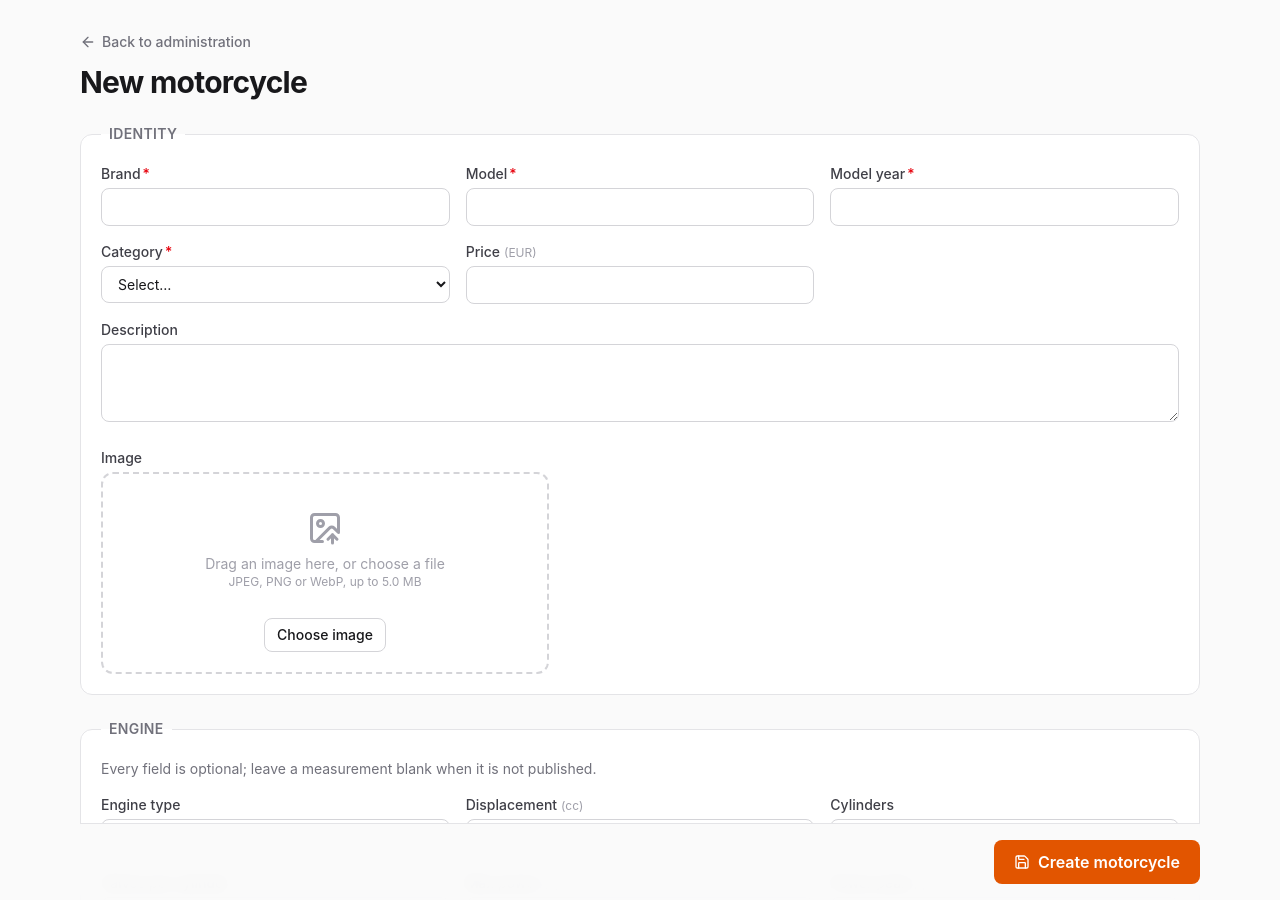
Scenario: AdminMotorcycleFormPage create › keeps the form and lists the field violations the API returned
Type "Yamaha" into the field labelled "Brand".
click(275, 207); type("Yamaha")  # box [101,188,450,226]
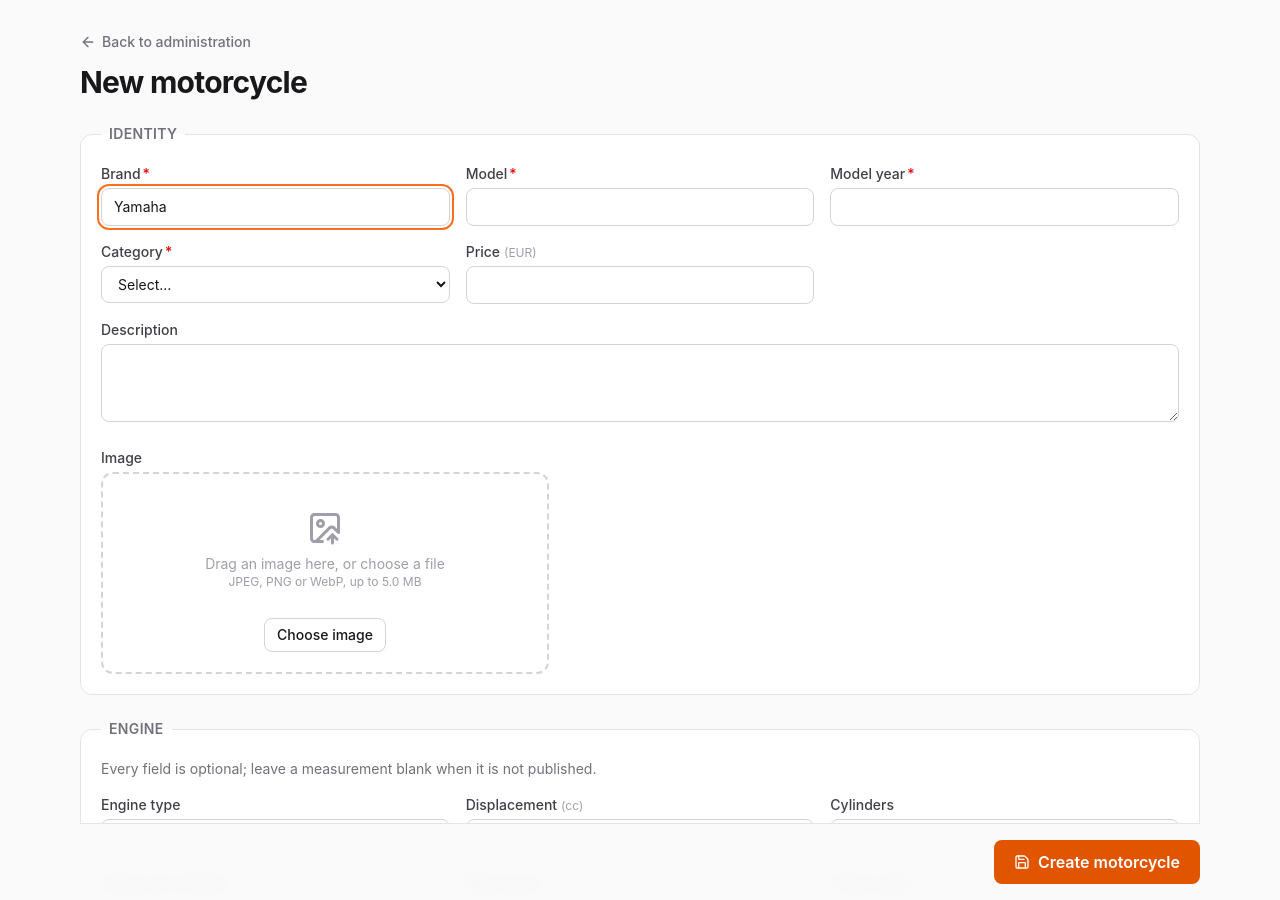
Type "MT-07" into the field labelled "Model".
click(640, 207); type("MT-07")  # box [466,188,814,226]
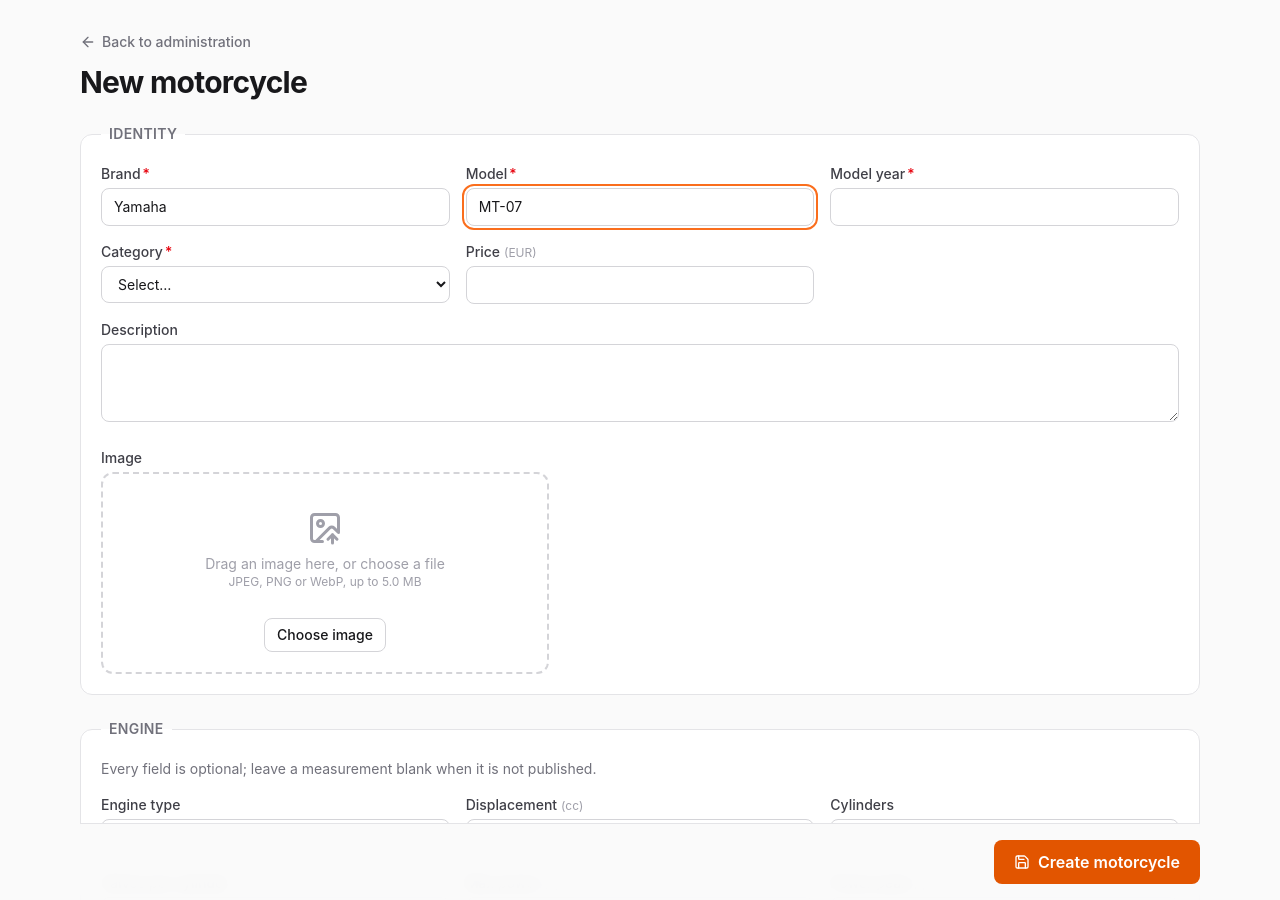
Type "2024" into the number field labelled "Model year".
click(1005, 207); type("2024")  # box [830,188,1179,226]
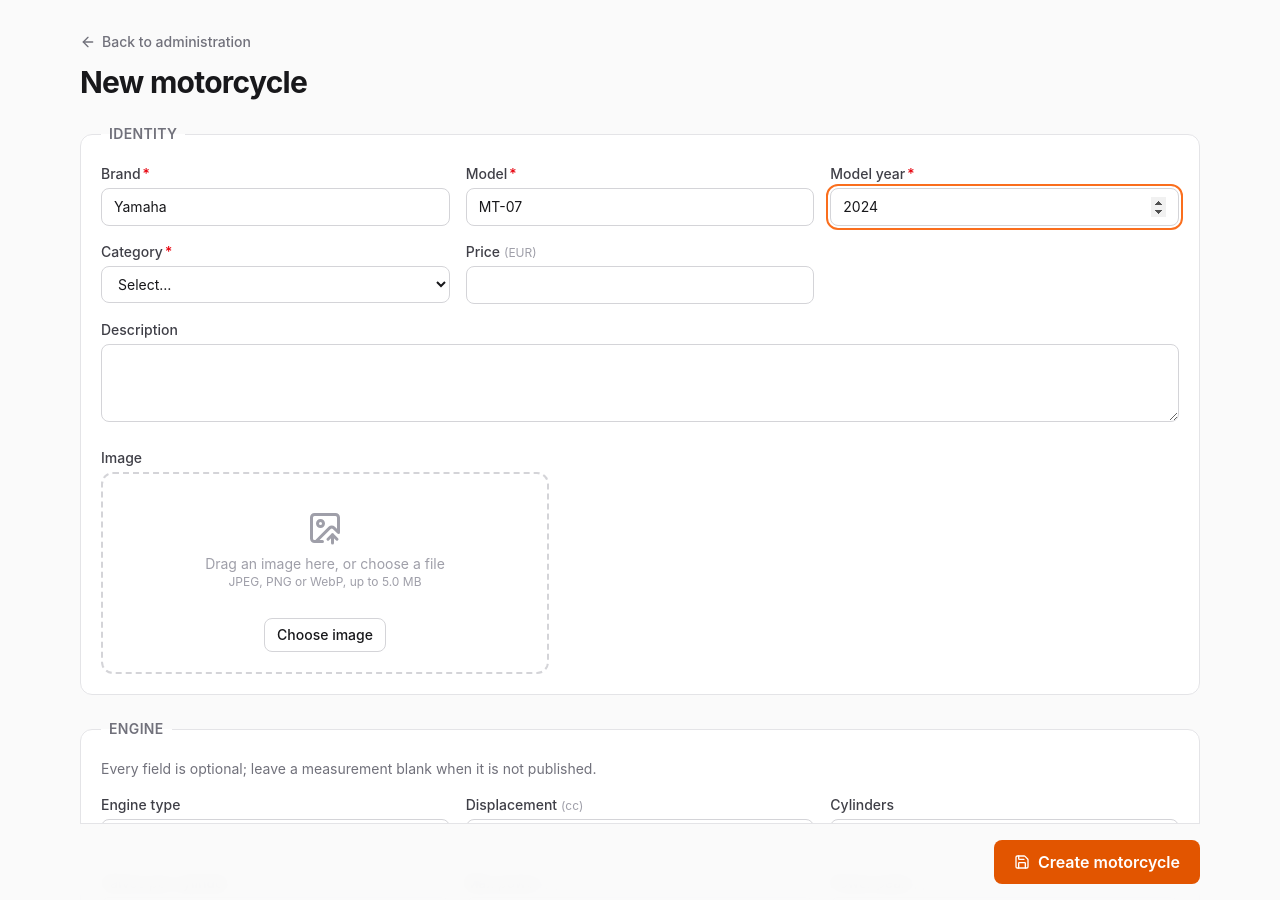
Select "Naked" in the dropdown labelled "Category" at {"x": 275, "y": 284}, box [101,266,450,303]
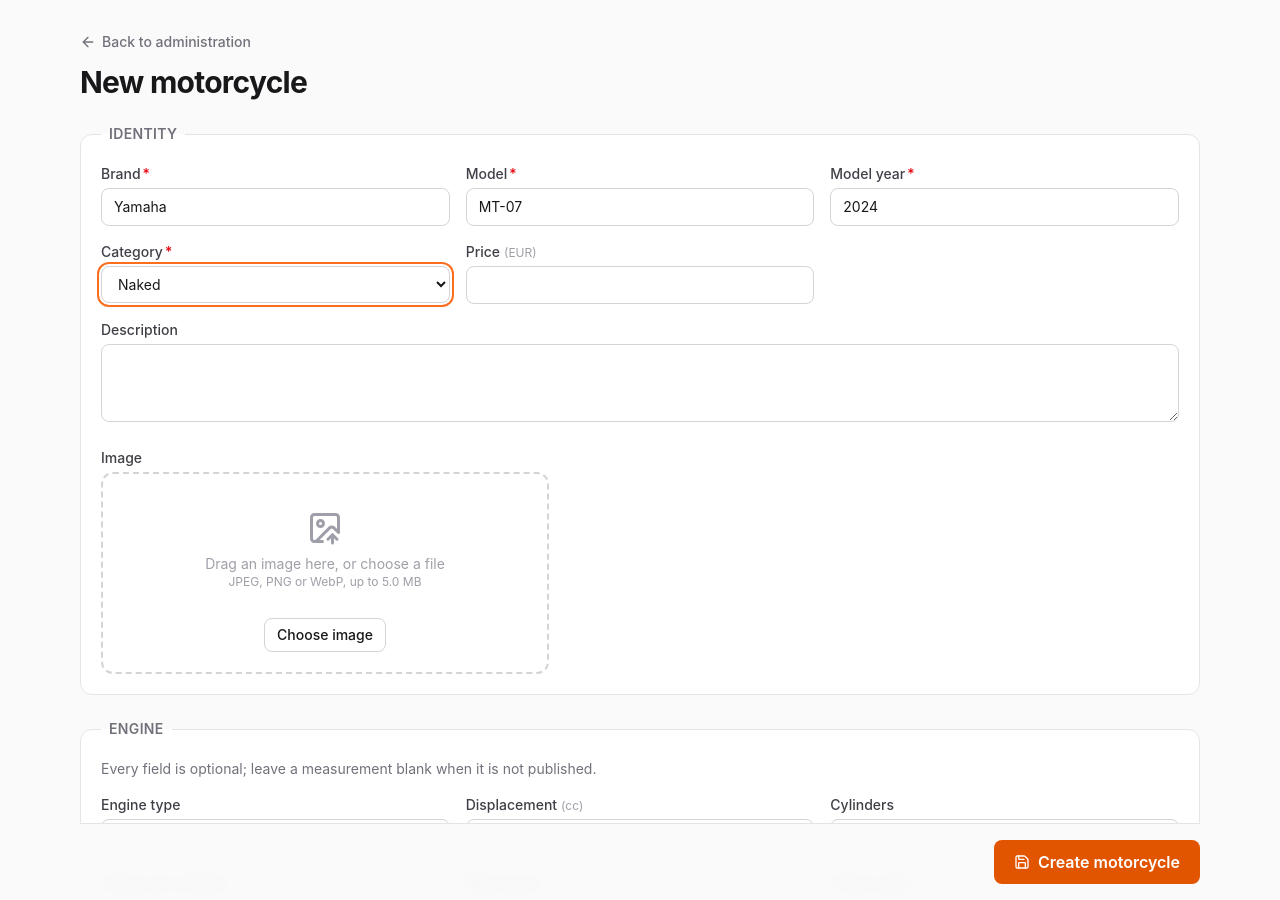
Click the button "Create motorcycle".
click(1097, 862)  # box [994,840,1200,884]
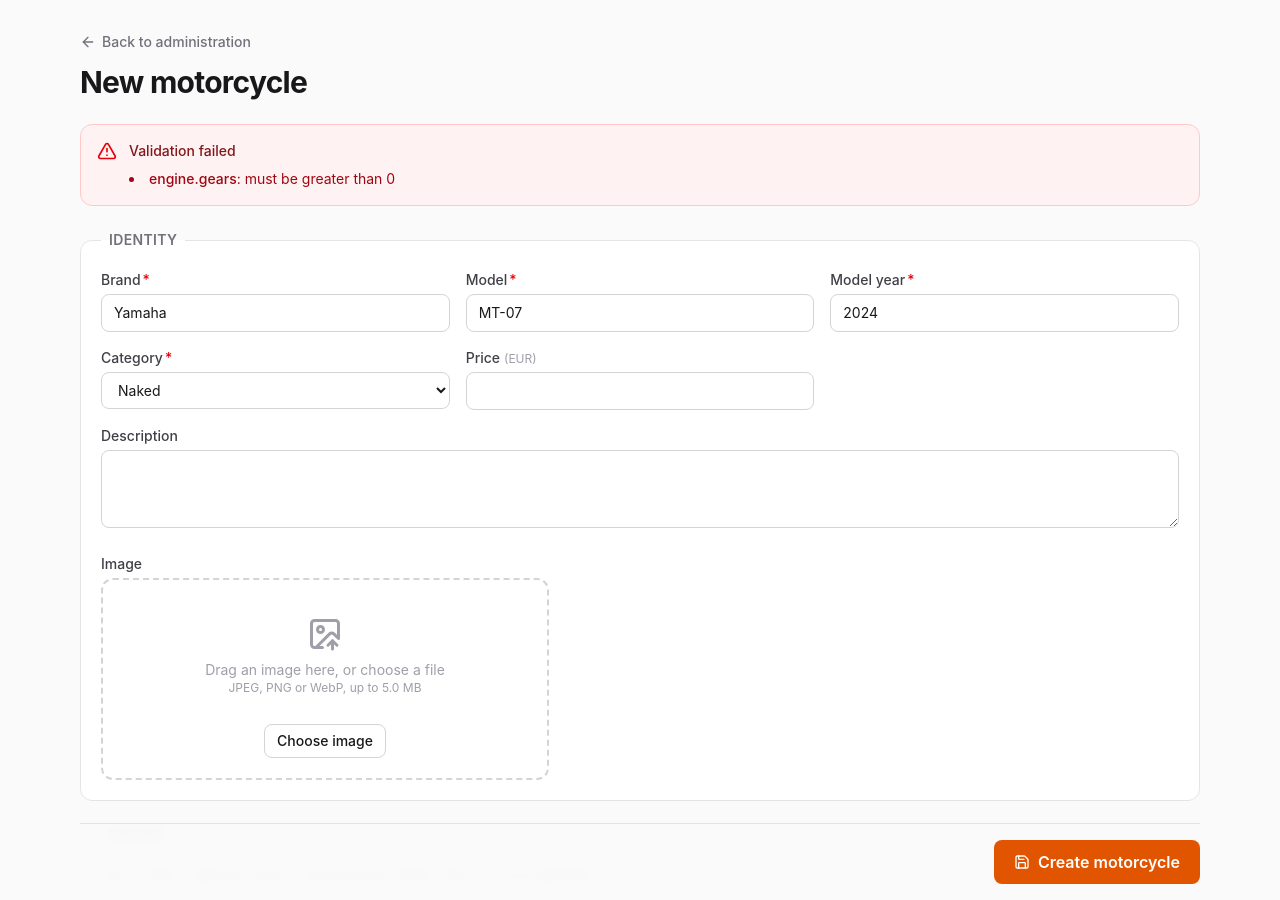
Expected: the heading "New motorcycle" is shown, [80,64,307,100]
Now the text "Validation failed" is shown, box [129,142,236,159]
Now the text "engine.gears" is shown, box [149,170,237,187]
